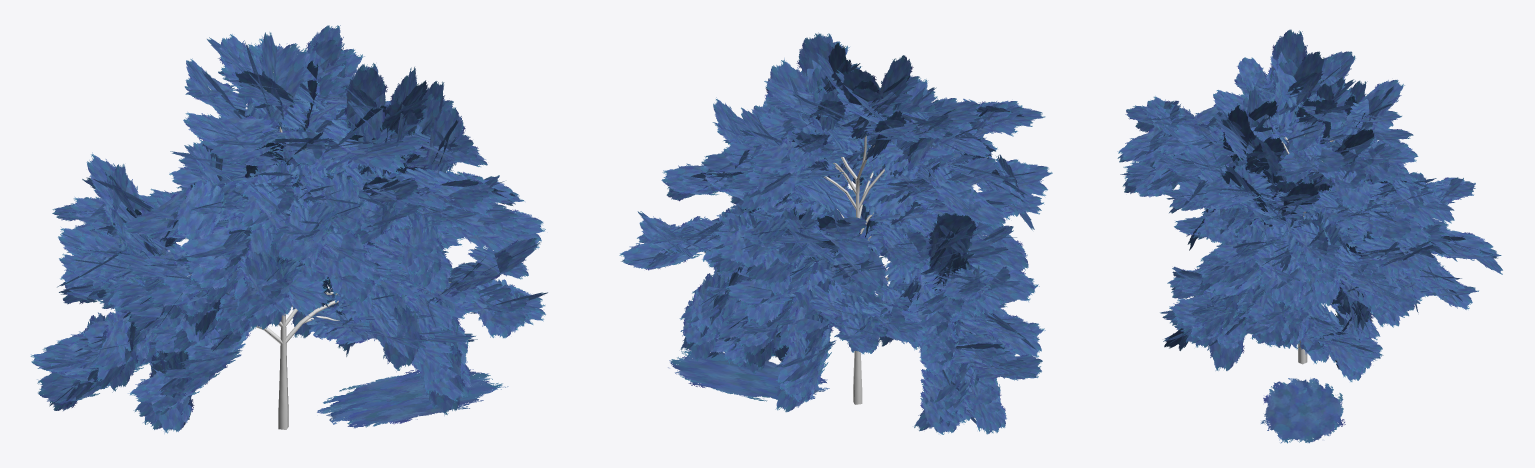
Rendered from arbolito_blender4.fbx.
The picture shows the model from 3 angles, left to right: view 1: azimuth 30°, elevation 25°; view 2: azimuth 150°, elevation 25°; view 3: azimuth 270°, elevation 25°; orthographic projection. The views are drawn at different scales.
Parts seen in each view (by area): view 1: Plane, leafs|Plane|Dupli|1482, Tree, leafs|Plane|Dupli|282, leafs|Plane|Dupli|2472, leafs|Plane|Dupli|769, leafs|Plane|Dupli|2271, leafs|Plane|Dupli|2848, leafs|Plane|Dupli|2064, leafs|Plane|Dupli|1101, leafs|Plane|Dupli|2234, leafs|Plane|Dupli|936 (+30 smaller); view 2: Plane, Tree, leafs|Plane|Dupli|432, leafs|Plane|Dupli|125, leafs|Plane|Dupli|1914, leafs|Plane|Dupli|1941, leafs|Plane|Dupli|2199, leafs|Plane|Dupli|2309, leafs|Plane|Dupli|2050, leafs|Plane|Dupli|41, leafs|Plane|Dupli|716, leafs|Plane|Dupli|1637 (+18 smaller); view 3: Plane, leafs|Plane|Dupli|1941, leafs|Plane|Dupli|2058, leafs|Plane|Dupli|2846, leafs|Plane|Dupli|927, leafs|Plane|Dupli|617, leafs|Plane|Dupli|125, leafs|Plane|Dupli|258, leafs|Plane|Dupli|2092, leafs|Plane|Dupli|1725, leafs|Plane|Dupli|2707, leafs|Plane|Dupli|887 (+8 smaller).
Boxes of the visible parts, x1,y1,x2,y2 form: Plane: [317, 369, 508, 428]; leafs|Plane|Dupli|1482: [175, 180, 224, 240]; Tree: [166, 72, 450, 429]; leafs|Plane|Dupli|282: [243, 43, 309, 117]; leafs|Plane|Dupli|2472: [179, 226, 239, 271]; leafs|Plane|Dupli|769: [426, 107, 465, 172]; leafs|Plane|Dupli|2271: [383, 303, 423, 371]; leafs|Plane|Dupli|2848: [344, 67, 387, 128]; leafs|Plane|Dupli|2064: [345, 63, 386, 145]; leafs|Plane|Dupli|1101: [405, 215, 441, 287]; leafs|Plane|Dupli|2234: [243, 250, 289, 328]; leafs|Plane|Dupli|936: [37, 372, 107, 405]; Plane: [668, 348, 829, 401]; Tree: [824, 135, 988, 404]; leafs|Plane|Dupli|432: [968, 260, 1034, 301]; leafs|Plane|Dupli|125: [796, 32, 833, 76]; leafs|Plane|Dupli|1914: [775, 347, 822, 412]; leafs|Plane|Dupli|1941: [876, 55, 913, 113]; leafs|Plane|Dupli|2199: [847, 246, 886, 295]; leafs|Plane|Dupli|2309: [744, 278, 791, 325]; leafs|Plane|Dupli|2050: [661, 163, 723, 195]; leafs|Plane|Dupli|41: [730, 225, 767, 267]; leafs|Plane|Dupli|716: [936, 180, 988, 223]; leafs|Plane|Dupli|1637: [798, 183, 852, 213]; Plane: [1261, 378, 1345, 443]; leafs|Plane|Dupli|1941: [1270, 29, 1309, 91]; leafs|Plane|Dupli|2058: [1207, 317, 1244, 370]; leafs|Plane|Dupli|2846: [1202, 175, 1271, 206]; leafs|Plane|Dupli|927: [1293, 51, 1324, 103]; leafs|Plane|Dupli|617: [1245, 136, 1285, 173]; leafs|Plane|Dupli|125: [1223, 103, 1251, 161]; leafs|Plane|Dupli|258: [1435, 230, 1484, 258]; leafs|Plane|Dupli|2092: [1332, 173, 1372, 207]; leafs|Plane|Dupli|1725: [1311, 148, 1344, 174]; leafs|Plane|Dupli|2707: [1266, 259, 1304, 303]; leafs|Plane|Dupli|887: [1237, 57, 1263, 90].
Size of the model in its own units: 4942 by 4022 by 4691.
